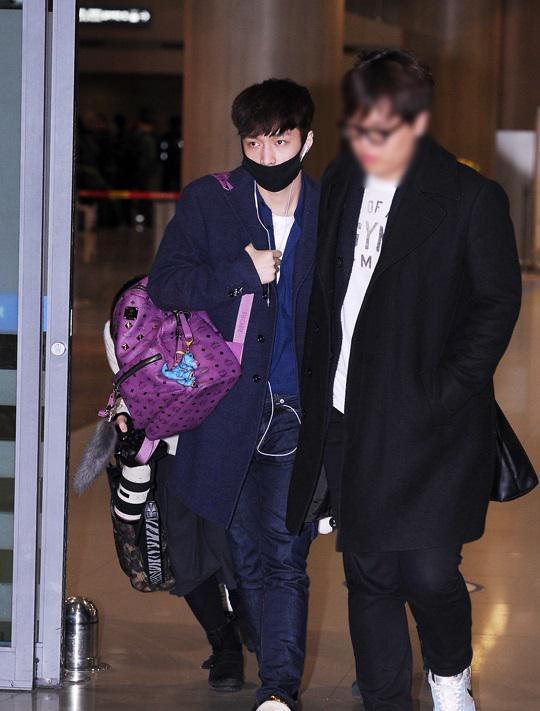NONE: (348, 106, 416, 174)
WRONG: (244, 124, 312, 192)
